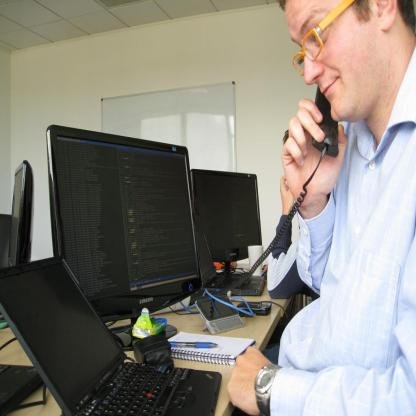board: (26, 244, 224, 408), (194, 213, 266, 296)
